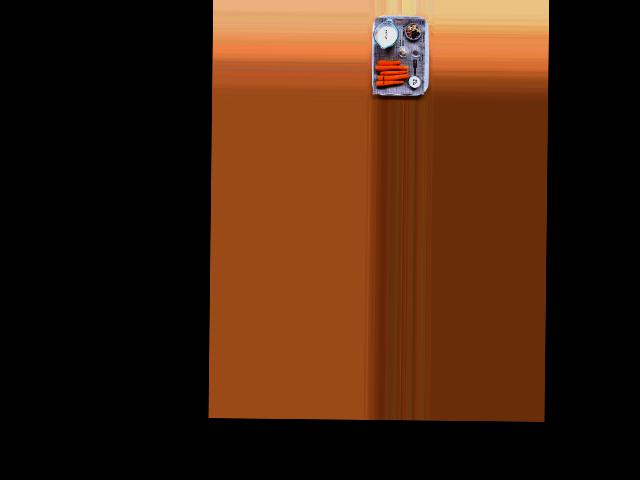carrot: (375, 78, 405, 87)
